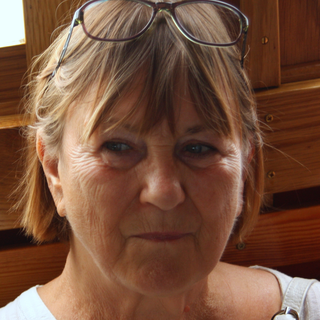eye: (178, 135, 222, 164), (95, 135, 143, 158)
